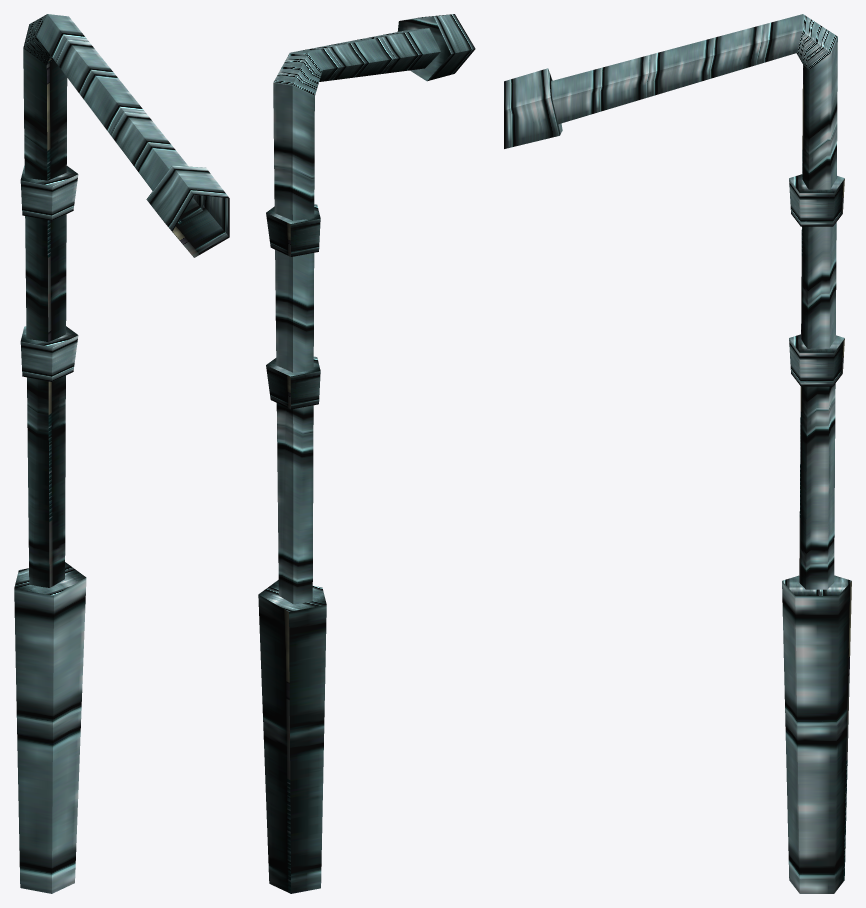
The model's file is Rohr_KnieDünn_1450.glb.
3 views of the same model, side by side, from view 1: azimuth 30°, elevation 25°; view 2: azimuth 150°, elevation 25°; view 3: azimuth 270°, elevation 25° (orthographic). The views are drawn at different scales.
Visible parts, largest first — view 1: pCylinderShape5, pCylinderShape6, pCylinderShape4, pCylinderShape7, pCylinderShape8; view 2: pCylinderShape5, pCylinderShape6, pCylinderShape4, pCylinderShape7, pCylinderShape8; view 3: pCylinderShape5, pCylinderShape6, pCylinderShape4, pCylinderShape7, pCylinderShape8.
Part boxes in pixels (x1,y1,x2,y2): pCylinderShape5: (23, 14, 202, 587); pCylinderShape6: (14, 562, 86, 893); pCylinderShape4: (146, 165, 229, 257); pCylinderShape7: (20, 326, 78, 381); pCylinderShape8: (20, 165, 78, 220); pCylinderShape5: (273, 28, 440, 604); pCylinderShape6: (258, 580, 326, 893); pCylinderShape4: (397, 14, 475, 81); pCylinderShape7: (266, 356, 320, 409); pCylinderShape8: (266, 204, 320, 256); pCylinderShape5: (551, 14, 837, 589); pCylinderShape6: (782, 575, 851, 893); pCylinderShape4: (504, 68, 562, 148); pCylinderShape7: (789, 334, 844, 386); pCylinderShape8: (789, 174, 844, 226).
Bounding box in the file's own units: 0.2446 × 3.33 × 1.21.
5 materials, 5 textured.
